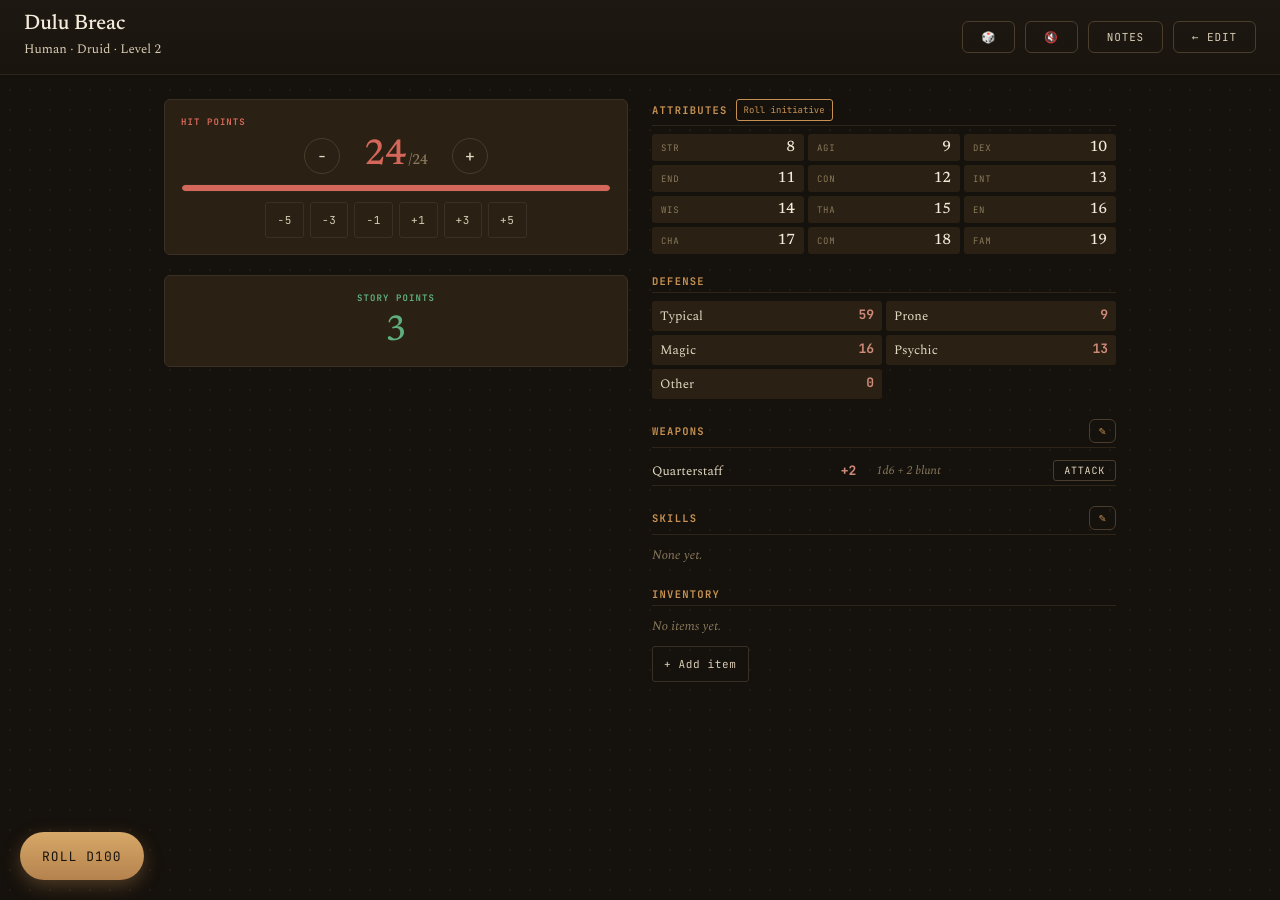
Test: Plain Roll Dice button (#370) › respects the double-roll guard while the dice tumble
What coordinates should you click on to do the following:
click the button "Roll d100"
I would click on:
 (82, 856)
Its box is [20,832,144,880].
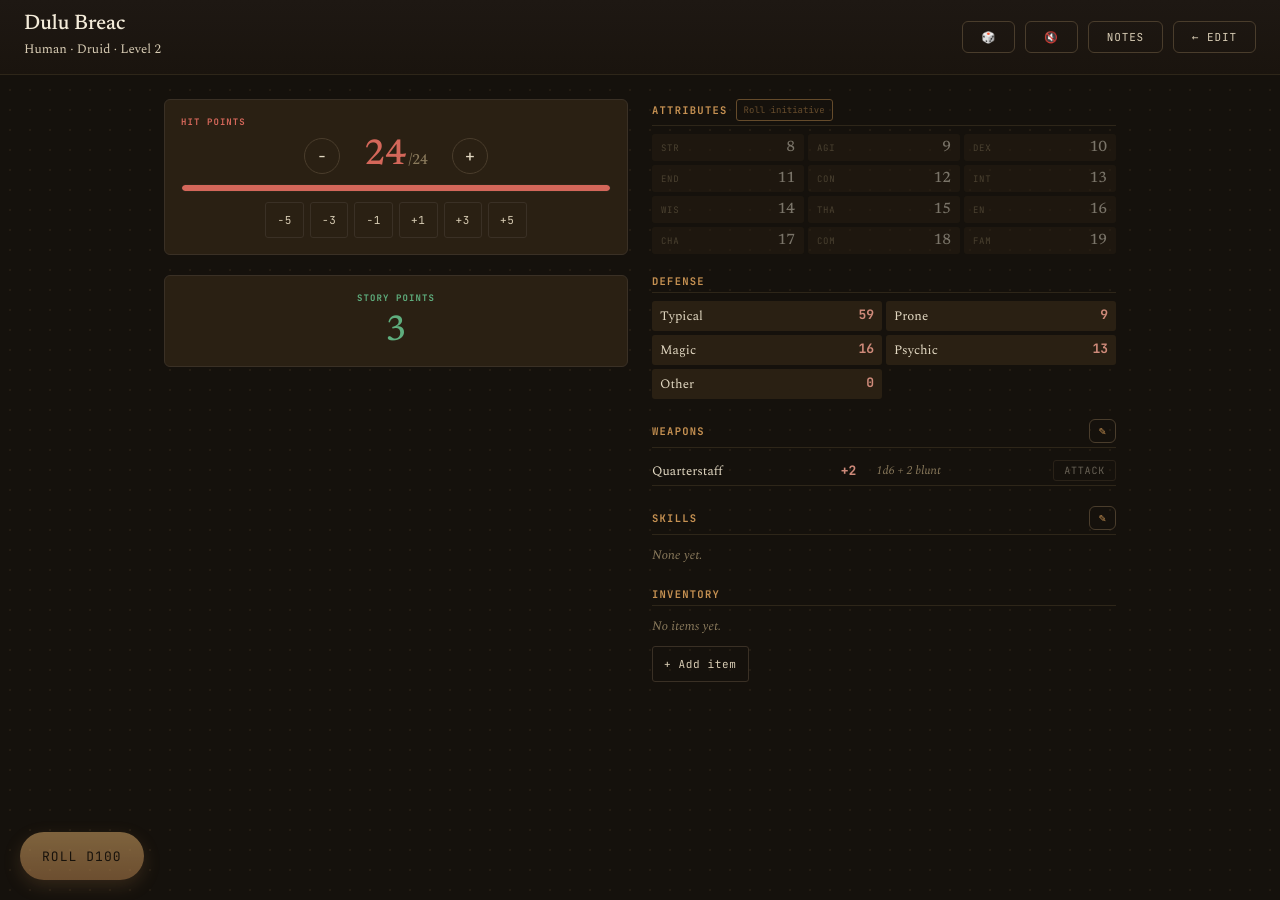
Expected: the button "Roll d100" is disabled
What coordinates should you click on to do the following:
click the button "Roll d100"
I would click on:
 (82, 856)
Its box is [20,832,144,880].
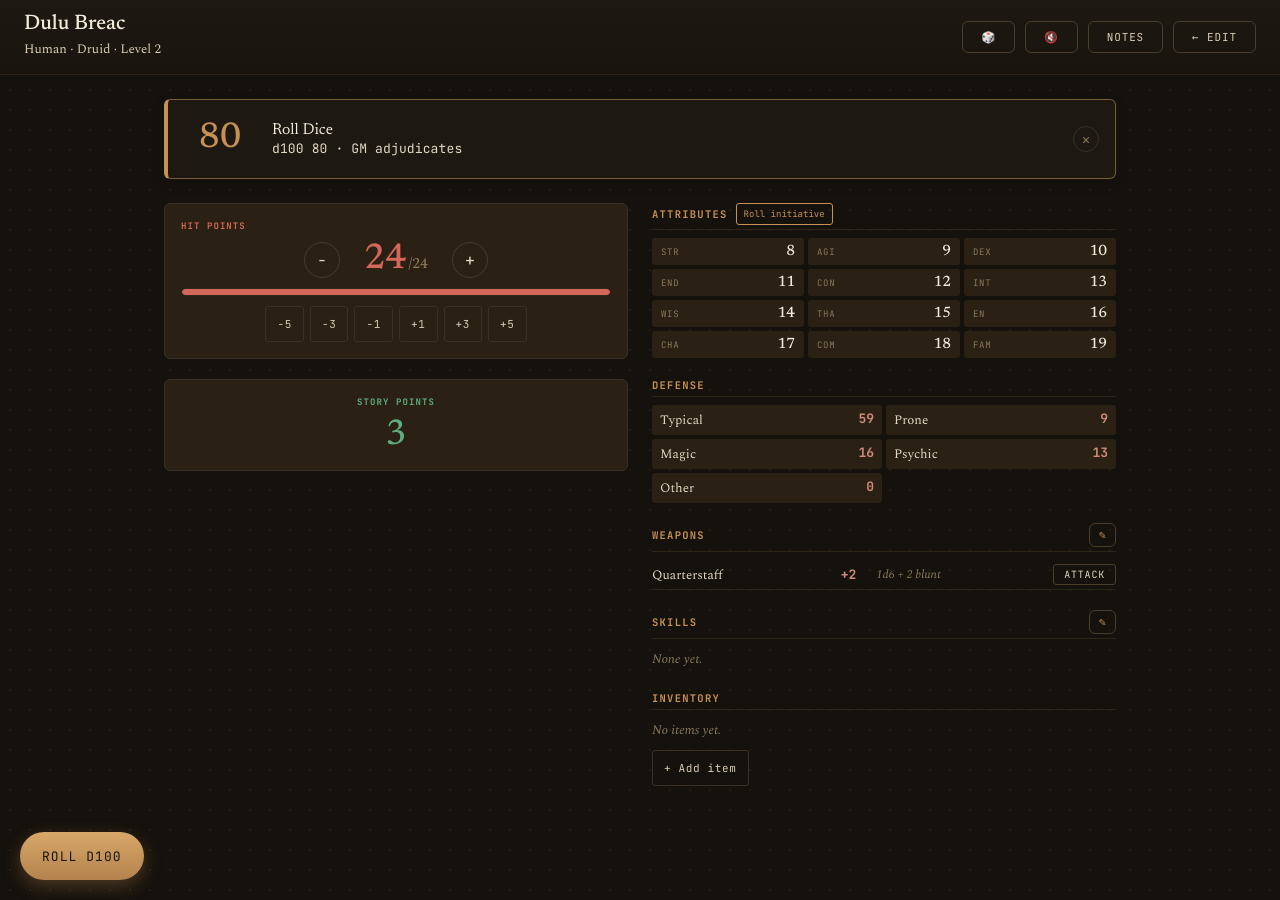
Expected: the button "Roll d100" is enabled, [20,832,144,880]
